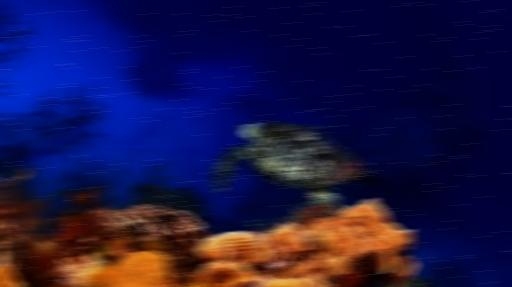Fish: (211, 122, 382, 203)
